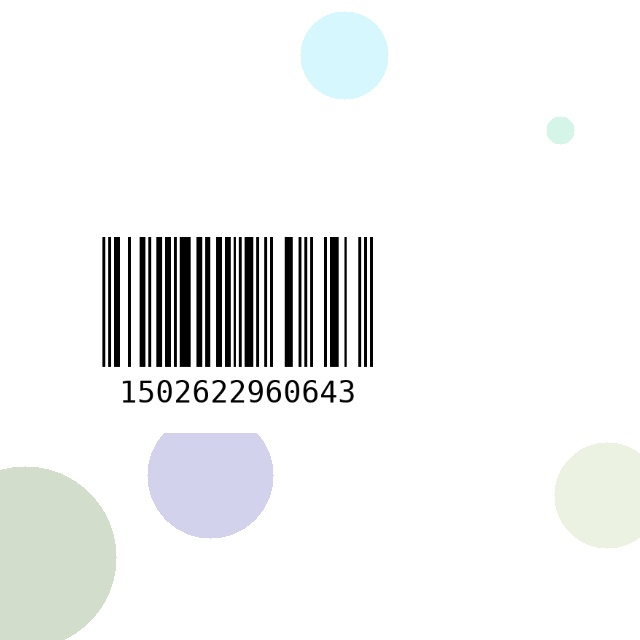barcode: (47, 229, 428, 433)
